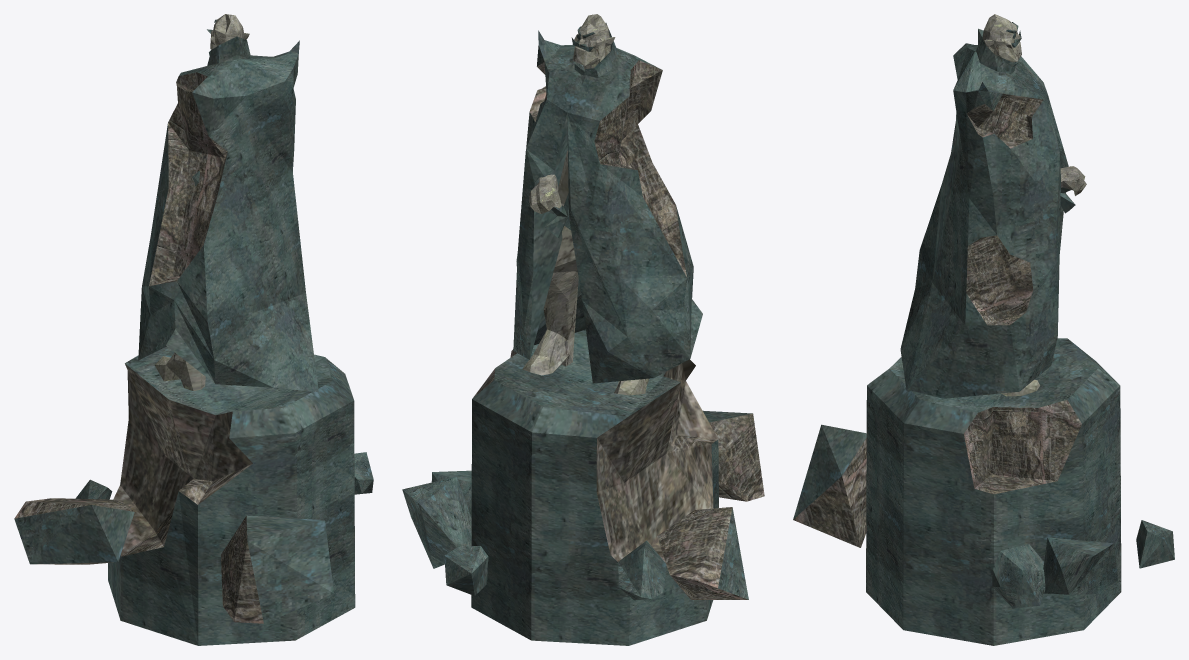
The model's file is C4SMVLADSTATUEDEST.obj.
3 views of the same model, side by side, from view 1: azimuth 30°, elevation 25°; view 2: azimuth 150°, elevation 25°; view 3: azimuth 270°, elevation 25° (orthographic).
Parts seen in each view (by area): view 1: Node 0, Node 1, Node 17, Node 18, Node 6, Node 2, Node 8; view 2: Node 0, Node 17, Node 1, Node 18, Node 5, Node 2, Node 7, Node 3, Node 8, Node 4; view 3: Node 0, Node 18, Node 17, Node 1, Node 2, Node 8, Node 3.
Boxes of the visible parts, bbox=[...] form: Node 0: bbox=[14, 346, 373, 645]; Node 1: bbox=[138, 144, 273, 387]; Node 17: bbox=[149, 40, 299, 283]; Node 18: bbox=[237, 144, 318, 392]; Node 6: bbox=[154, 352, 205, 390]; Node 2: bbox=[207, 14, 249, 49]; Node 8: bbox=[207, 36, 251, 65]; Node 0: bbox=[402, 329, 764, 645]; Node 17: bbox=[526, 30, 686, 278]; Node 1: bbox=[569, 163, 702, 383]; Node 18: bbox=[513, 149, 585, 359]; Node 5: bbox=[522, 271, 578, 375]; Node 2: bbox=[571, 14, 615, 69]; Node 7: bbox=[553, 150, 590, 272]; Node 3: bbox=[529, 174, 561, 213]; Node 8: bbox=[573, 23, 618, 77]; Node 4: bbox=[545, 193, 570, 237]; Node 0: bbox=[793, 338, 1174, 645]; Node 18: bbox=[900, 149, 1060, 398]; Node 17: bbox=[951, 43, 1068, 262]; Node 1: bbox=[900, 149, 1065, 348]; Node 2: bbox=[982, 14, 1021, 62]; Node 8: bbox=[975, 28, 1019, 74]; Node 3: bbox=[1060, 166, 1086, 195].
Size of the model in its own units: 40.7 by 68.66 by 41.2.
Materials: 24 (24 with a texture image).
